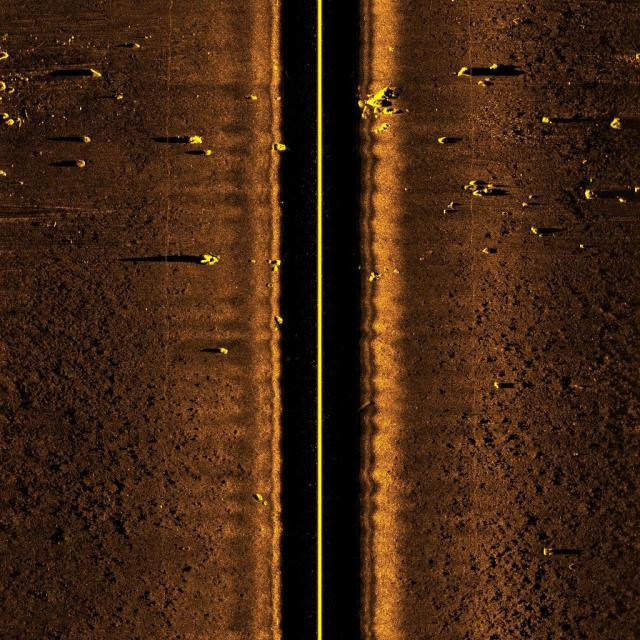mine: (355, 397, 376, 413)
other: (353, 82, 412, 122), (140, 241, 222, 266), (454, 62, 514, 94), (158, 128, 216, 160), (45, 66, 106, 80)
